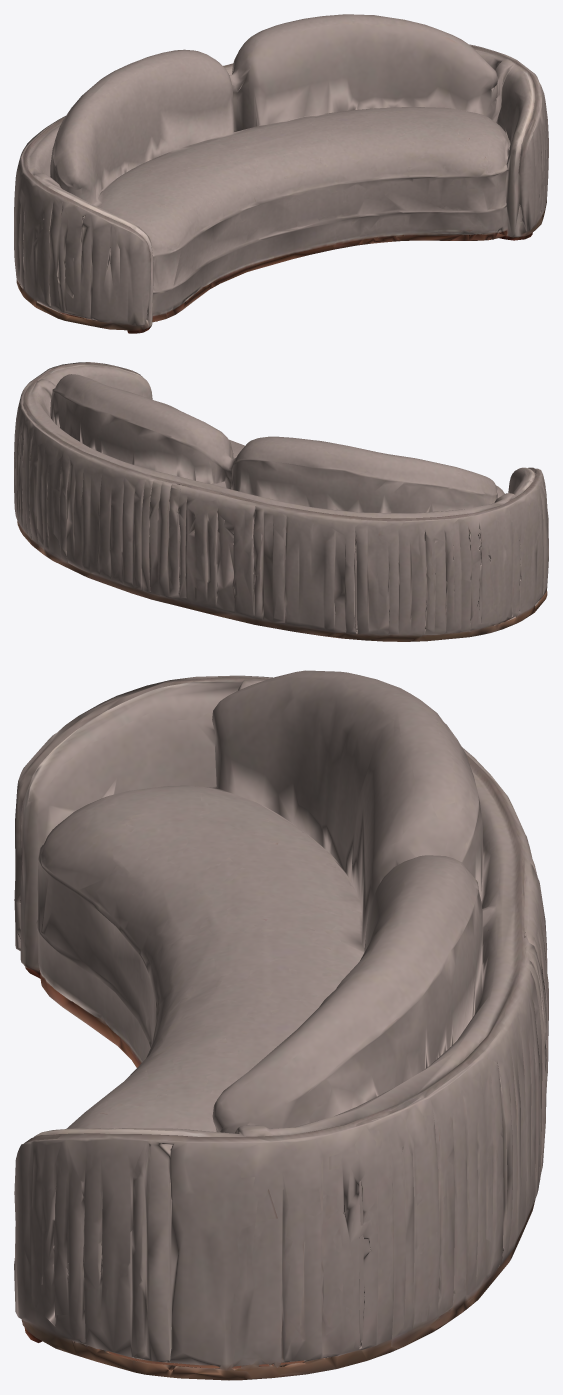
The model's file is curved-greige-sofa.glb.
3 views of the same model, one above another, from view 1: azimuth 30°, elevation 25°; view 2: azimuth 150°, elevation 25°; view 3: azimuth 270°, elevation 25° (orthographic). The views are drawn at different scales.
Visible parts, largest first — view 1: world; view 2: world; view 3: world.
Boxes of the visible parts, x1,y1,x2,y2 form: world: (14, 14, 548, 333); world: (14, 362, 548, 641); world: (14, 670, 548, 1380).
Bounding box in the file's own units: 0.9912 × 0.3269 × 0.4682.
1 material, 1 textured.
